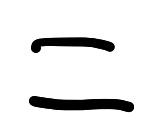eqv: (26, 33, 138, 115)
